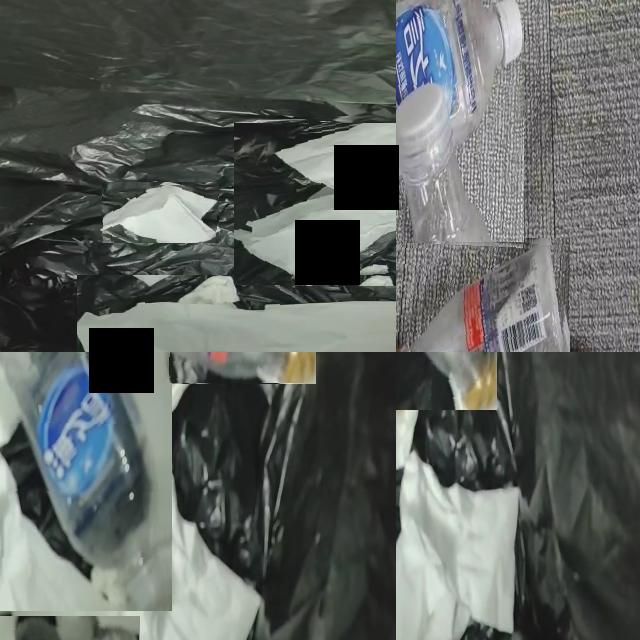bottle: (0, 352, 167, 611), (396, 0, 523, 147), (397, 244, 566, 352), (428, 352, 490, 410)
paper: (12, 440, 262, 640), (234, 123, 396, 281), (77, 276, 396, 352), (396, 452, 518, 640), (104, 352, 196, 446), (103, 185, 218, 243), (396, 379, 425, 469)
